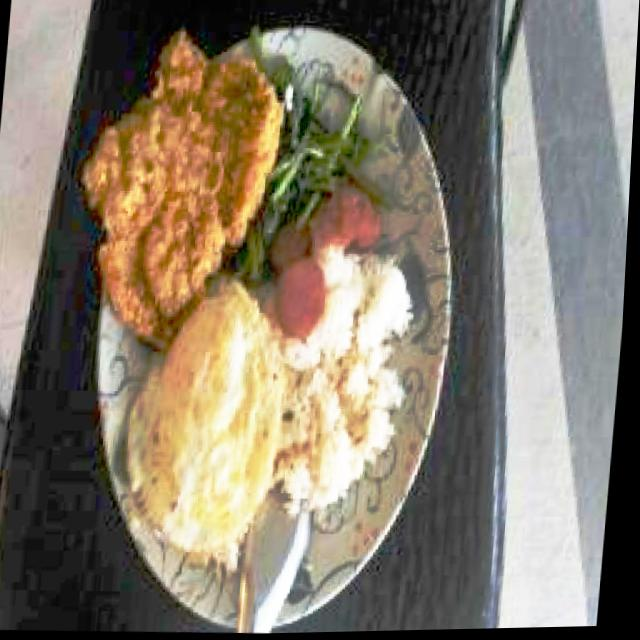chinese_sausage: (262, 183, 384, 338)
fried_chicken: (67, 25, 287, 354)
fried_eggs: (115, 276, 288, 557)
rice: (255, 245, 413, 513)
water_spinach: (201, 29, 400, 282)
